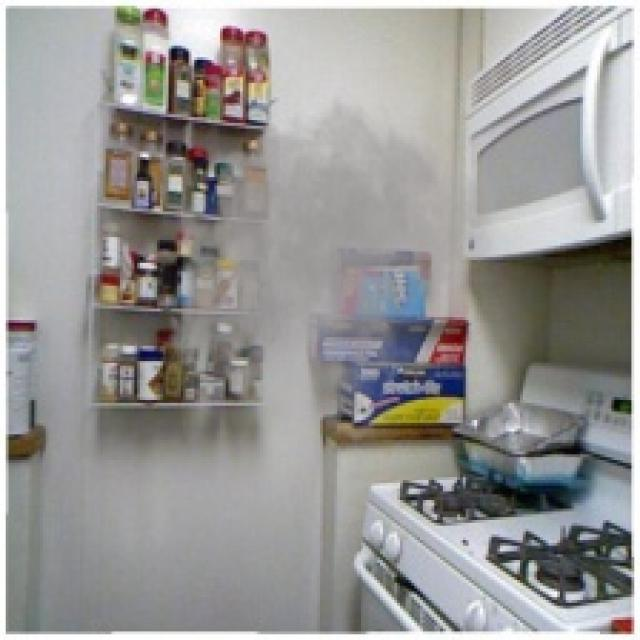smoke: (152, 77, 508, 460)
